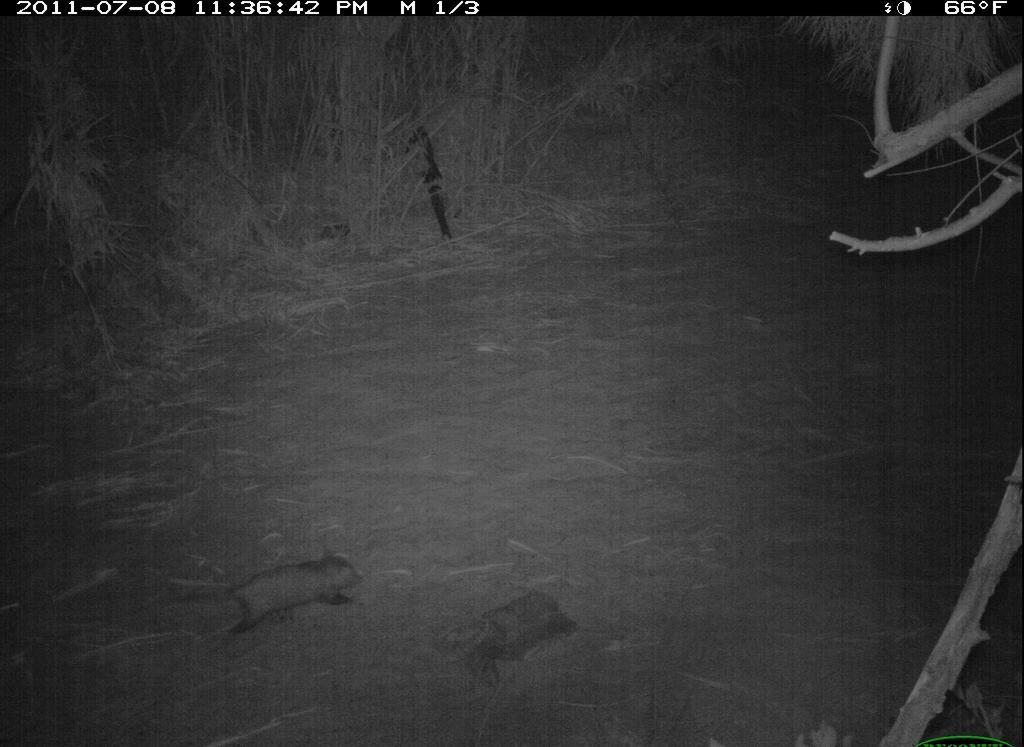opossum: (152, 529, 376, 649)
